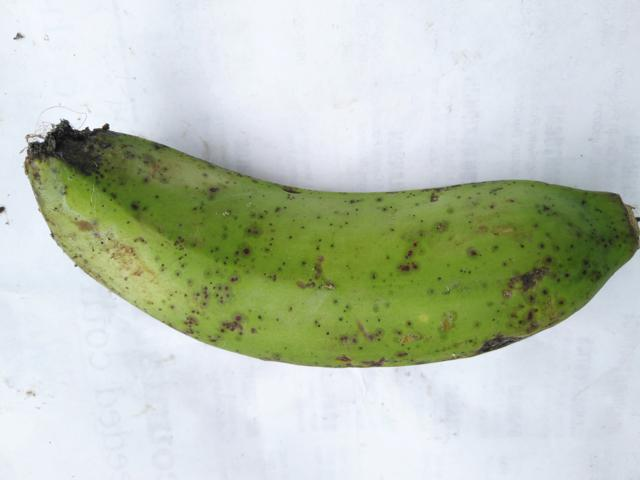unripe: (23, 105, 639, 396)
